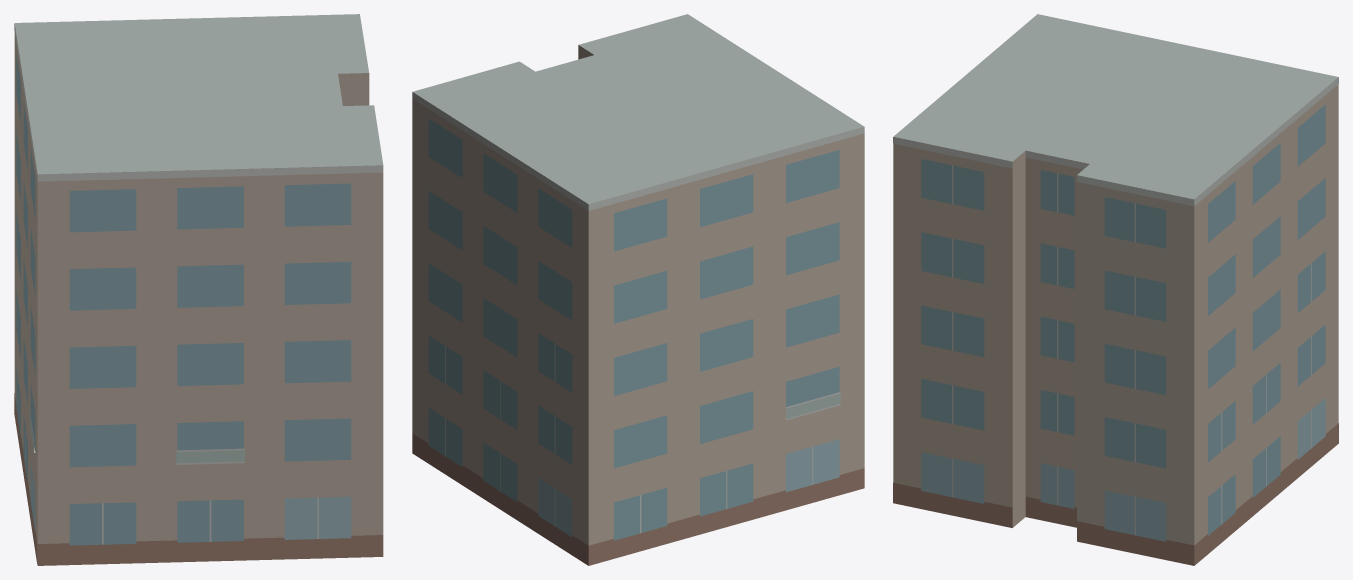
The model's file is survey-upis-32489785.glb.
The picture shows the model from 3 angles, left to right: view 1: azimuth 30°, elevation 25°; view 2: azimuth 150°, elevation 25°; view 3: azimuth 270°, elevation 25°; orthographic projection. The views are drawn at different scales.
Visible parts, largest first — view 1: survey-upis-32489785.tmp; view 2: survey-upis-32489785.tmp; view 3: survey-upis-32489785.tmp.
Part boxes in pixels (x1,y1,x2,y2): survey-upis-32489785.tmp: (14,14,383,565); survey-upis-32489785.tmp: (412,14,864,565); survey-upis-32489785.tmp: (893,14,1338,565).
Bounding box in the file's own units: 14.23 × 13.1 × 14.45.
